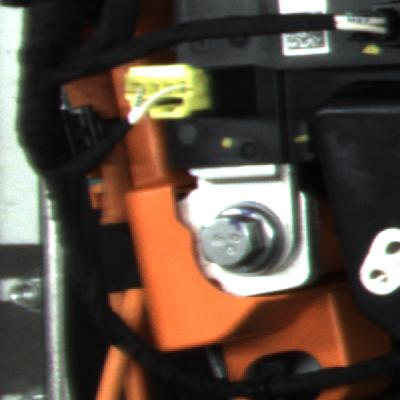nut_b: (182, 195, 296, 279)
